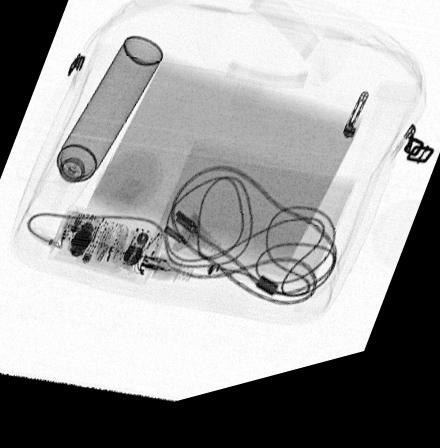Sprayer: (36, 42, 165, 219)
